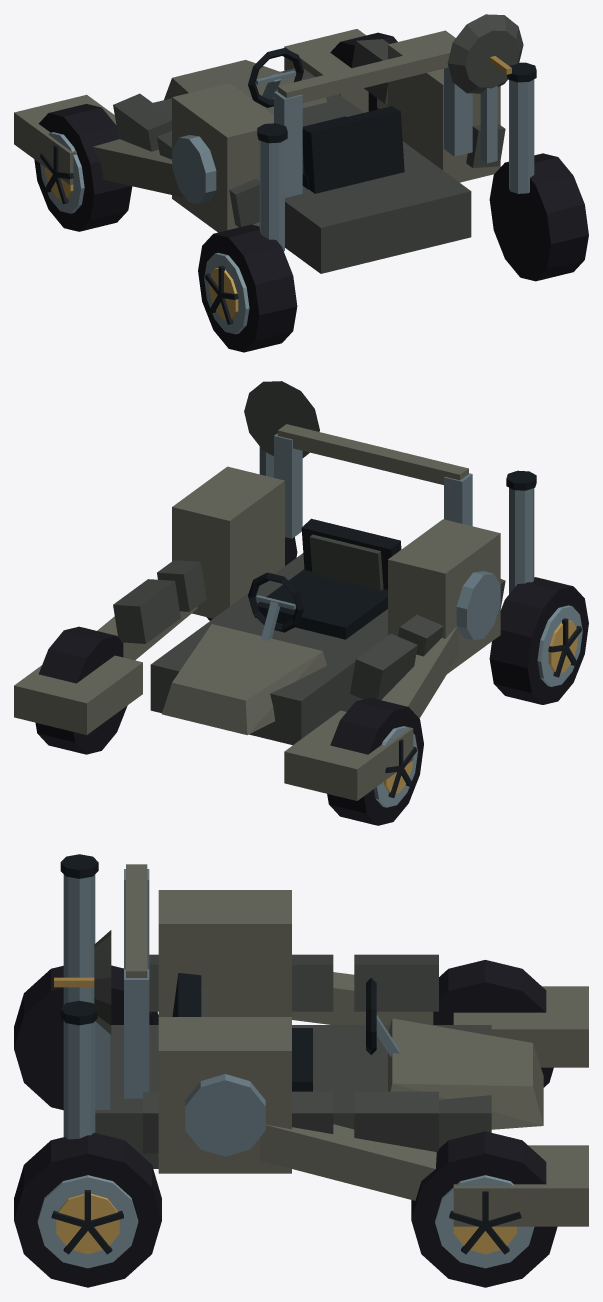
The model's file is kart.glb.
The picture shows the model from 3 angles, top to bottom: view 1: azimuth 30°, elevation 25°; view 2: azimuth 150°, elevation 25°; view 3: azimuth 270°, elevation 25°; orthographic projection. The views are drawn at different scales.
Visible parts, largest first — view 1: identity-mech-mech-articulated-limbs-and-open-harness, wheel-rear-left, wheel-rear-right, identity-mech-driver-cockpit, wheel-front-left, identity-mech-motif-exhaust, identity-mech-motif-radar, identity-mech-motif-armor, wheel-front-right; view 2: identity-mech-mech-articulated-limbs-and-open-harness, identity-mech-driver-cockpit, wheel-rear-left, identity-mech-motif-armor, wheel-front-left, wheel-front-right, identity-mech-motif-exhaust, identity-mech-motif-radar; view 3: identity-mech-mech-articulated-limbs-and-open-harness, wheel-rear-right, identity-mech-motif-armor, wheel-front-right, identity-mech-motif-exhaust, wheel-rear-left, wheel-front-left, identity-mech-driver-cockpit, identity-mech-motif-radar.
Part boxes in pixels (<box>): identity-mech-mech-articulated-limbs-and-open-harness: <box>14,29,500,273</box>; wheel-rear-left: <box>198,224,297,352</box>; wheel-rear-right: <box>489,153,588,281</box>; identity-mech-driver-cockpit: <box>248,48,404,193</box>; wheel-front-left: <box>34,104,132,231</box>; identity-mech-motif-exhaust: <box>257,62,536,251</box>; identity-mech-motif-radar: <box>447,14,523,163</box>; identity-mech-motif-armor: <box>113,39,505,227</box>; wheel-front-right: <box>330,32,397,111</box>; identity-mech-mech-articulated-limbs-and-open-harness: <box>14,424,500,800</box>; identity-mech-driver-cockpit: <box>248,518,401,641</box>; wheel-rear-left: <box>489,577,588,704</box>; identity-mech-motif-armor: <box>113,560,505,699</box>; wheel-front-left: <box>327,698,423,825</box>; wheel-front-right: <box>35,626,127,754</box>; identity-mech-motif-exhaust: <box>259,446,536,593</box>; identity-mech-motif-radar: <box>244,381,319,457</box>; identity-mech-mech-articulated-limbs-and-open-harness: <box>95,864,588,1226</box>; wheel-rear-right: <box>14,1133,161,1287</box>; identity-mech-motif-armor: <box>143,954,438,1153</box>; wheel-front-right: <box>411,1131,557,1287</box>; identity-mech-motif-exhaust: <box>60,854,98,1139</box>; wheel-rear-left: <box>14,965,158,1110</box>; wheel-front-left: <box>433,960,553,1087</box>; identity-mech-driver-cockpit: <box>172,973,399,1091</box>; identity-mech-motif-radar: <box>54,930,111,1109</box>.
Bounding box in the file's own units: 2.29 × 1.65 × 2.72.
